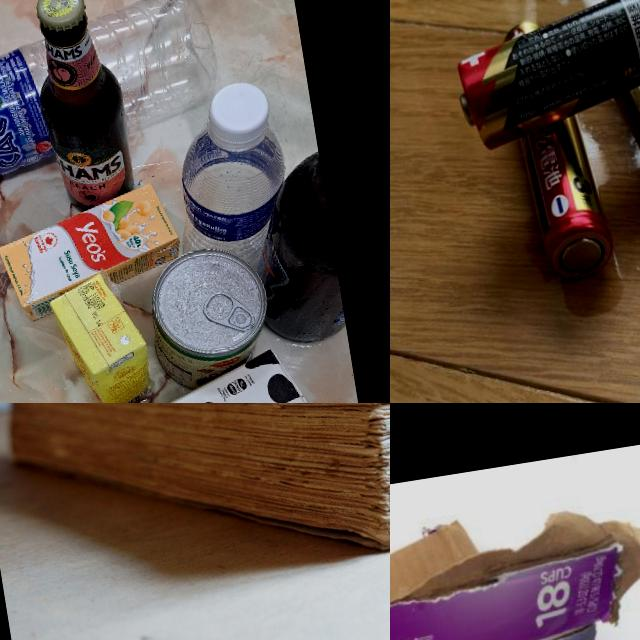aba de lata: (205, 292, 255, 340)
bateria: (489, 11, 624, 288), (439, 0, 640, 161)
caixinha: (0, 181, 183, 302), (0, 343, 348, 403), (51, 270, 160, 403)
garrafa de vidro: (20, 0, 139, 211), (236, 142, 349, 356)
garrafa plástica: (0, 0, 230, 199)
lata: (148, 245, 276, 386)
papel: (0, 403, 390, 607)
papelão: (390, 490, 640, 640)
tampa plástica: (208, 76, 274, 146)
